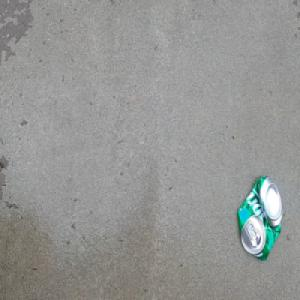SodaCan: (235, 172, 284, 262)
